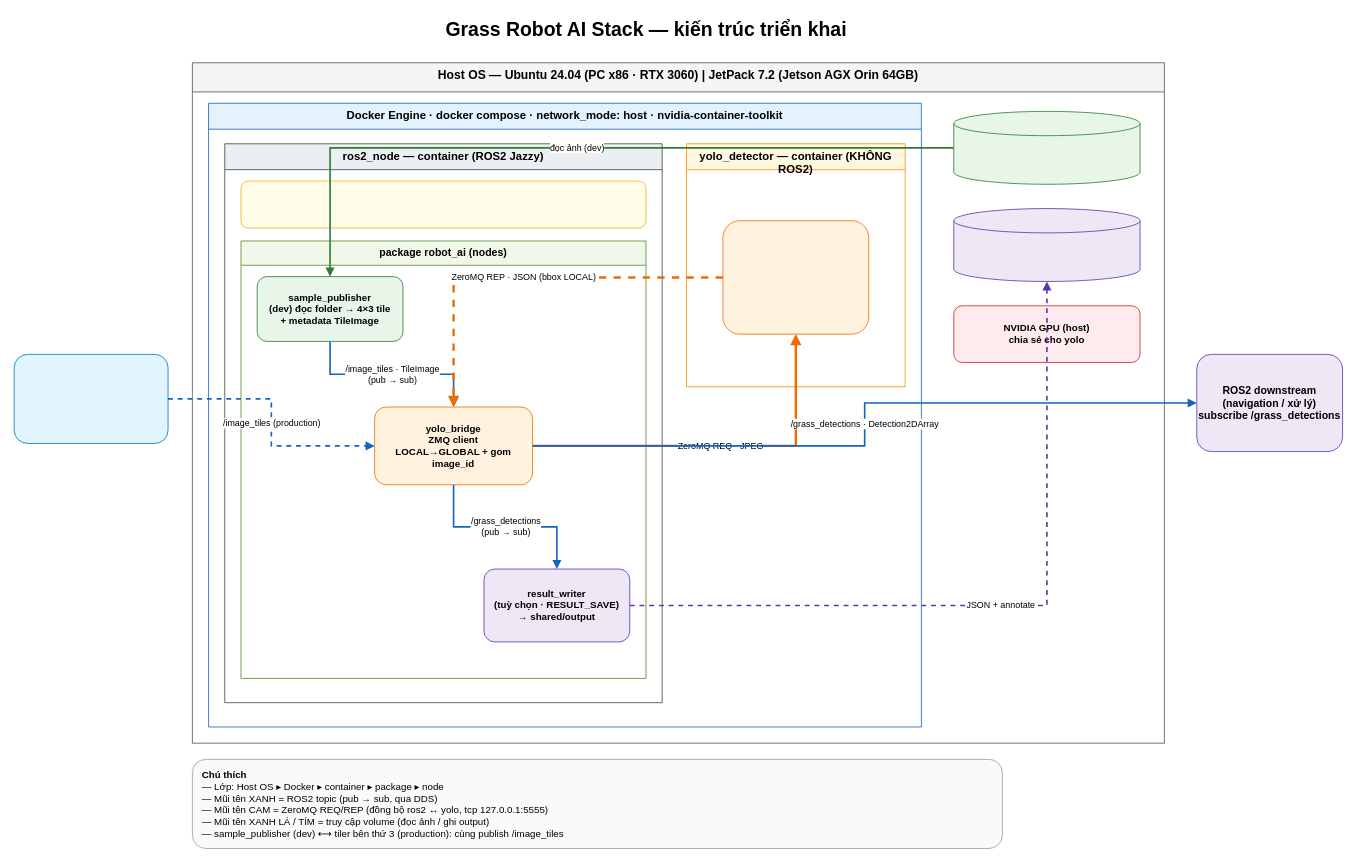
The diagram is 1357 pixels wide and 863 high, and some of its shapes have lost their labels. Here are the shapes that lost their labels. From the top down, the centre of each, then its label:
(x=1046, y=147): shared/images (volume)
(x=443, y=204): package robot_ai_interfaces msg/TileImage (contract)
(x=1046, y=244): shared/output (volume)
(x=795, y=277): yolo_server YOLO model (GPU) ZeroMQ REP tcp://127.0.0.1:5555
(x=90, y=398): Tiler bên thứ 3 (production) publish /image_tiles
